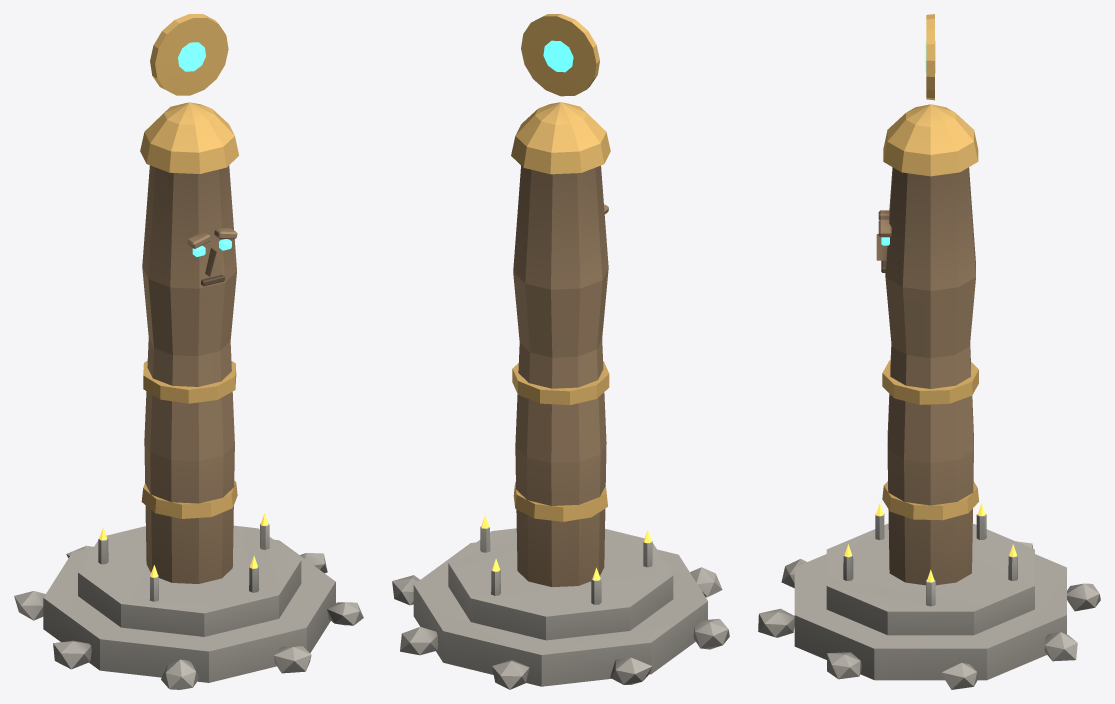
The model's file is idol_vera.glb.
3 views of the same model, side by side, from view 1: azimuth 30°, elevation 25°; view 2: azimuth 150°, elevation 25°; view 3: azimuth 270°, elevation 25° (orthographic).
Parts seen in each view (by area): view 1: idol_vera; view 2: idol_vera; view 3: idol_vera.
Part boxes in pixels (left/top/right/bottom): idol_vera: left=14, top=14, right=363, bottom=689; idol_vera: left=392, top=14, right=729, bottom=689; idol_vera: left=758, top=14, right=1100, bottom=689.
Bounding box in the file's own units: 0.7958 × 1.55 × 0.7909.
